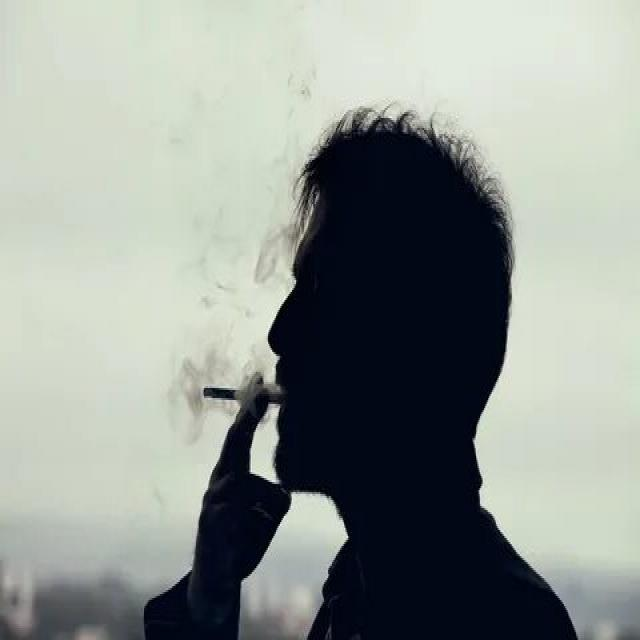cigarette: (201, 382, 287, 408)
